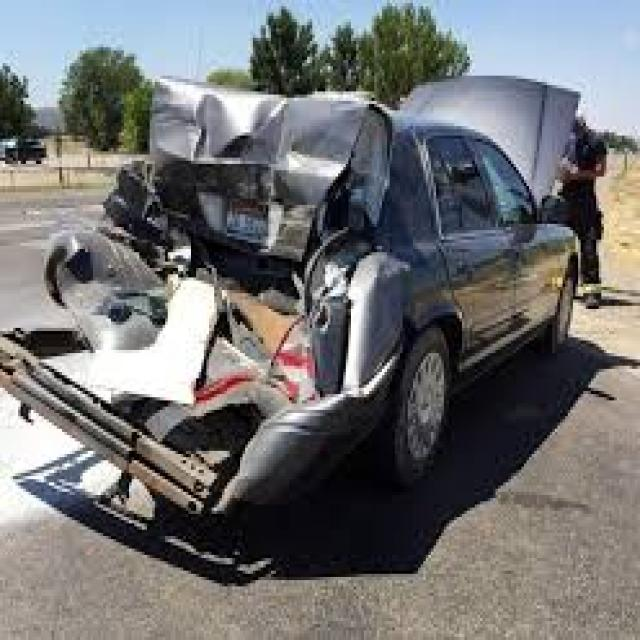severe: (0, 22, 473, 639)
